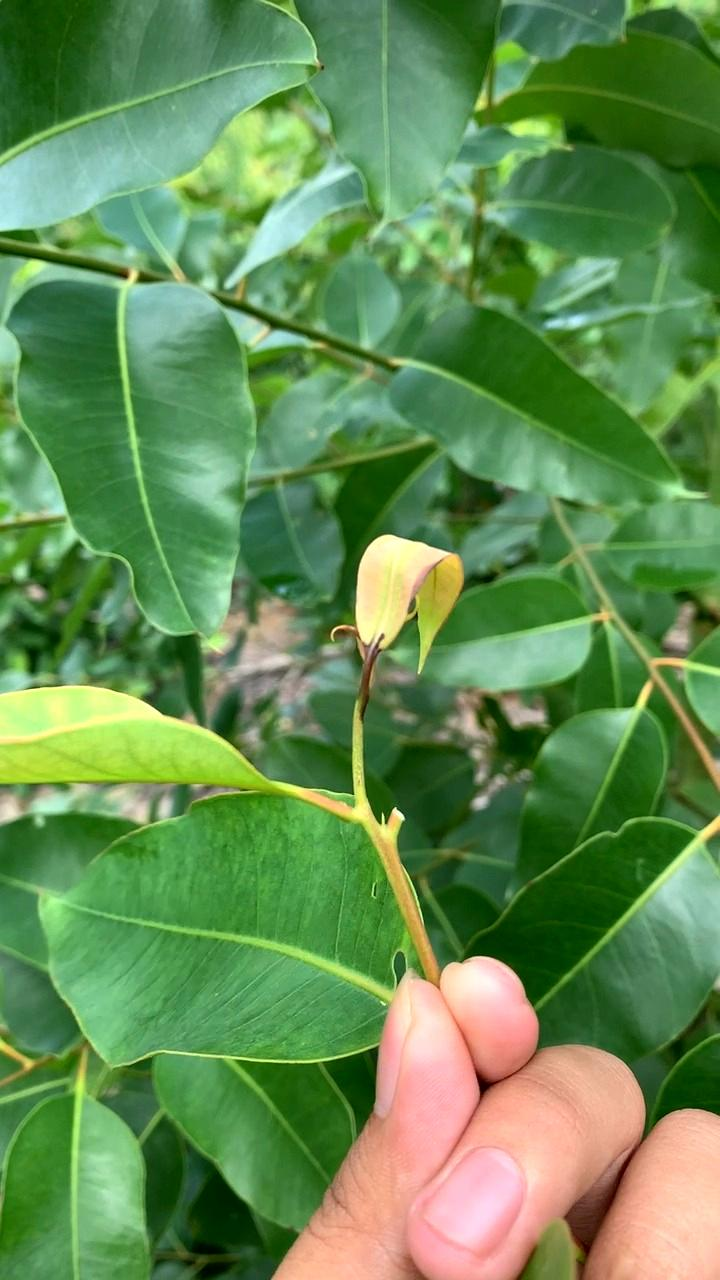Helopeltis-Withered Sprout: (348, 518, 475, 679)
